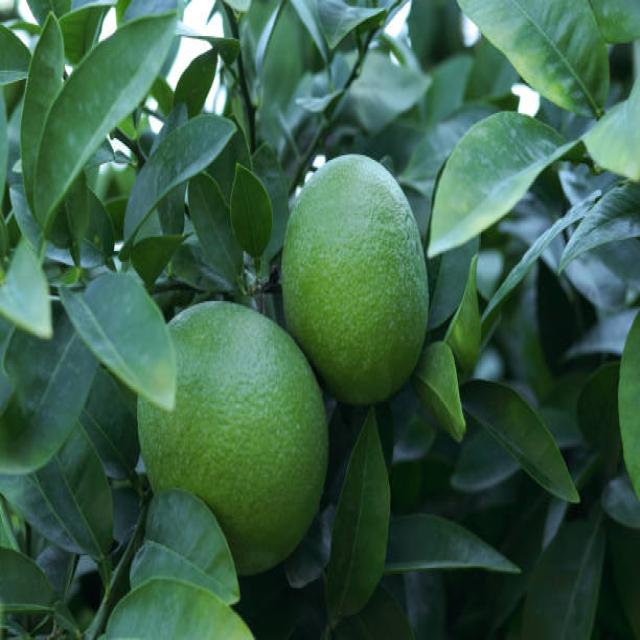Unripe: (136, 298, 330, 575), (279, 153, 431, 407)
